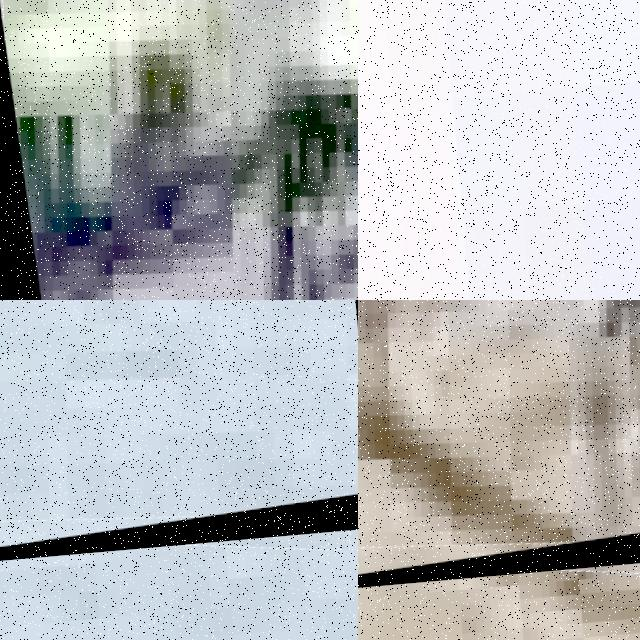drone: (0, 0, 358, 300), (0, 300, 358, 583), (358, 300, 640, 609)
